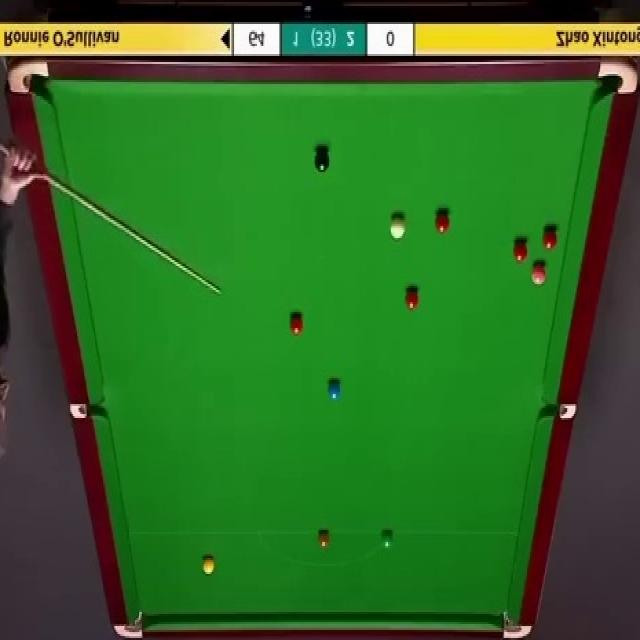black-ball: (314, 152, 330, 176)
blue-ball: (328, 379, 341, 401)
brown-ball: (318, 530, 330, 547)
green-ball: (382, 530, 393, 550)
pink-ball: (531, 262, 548, 287)
red-ball: (433, 210, 451, 235), (405, 288, 420, 313), (513, 241, 528, 262), (290, 313, 303, 336), (544, 227, 557, 249)
white-ball: (388, 212, 406, 239)
yellow-ball: (202, 554, 216, 574)
